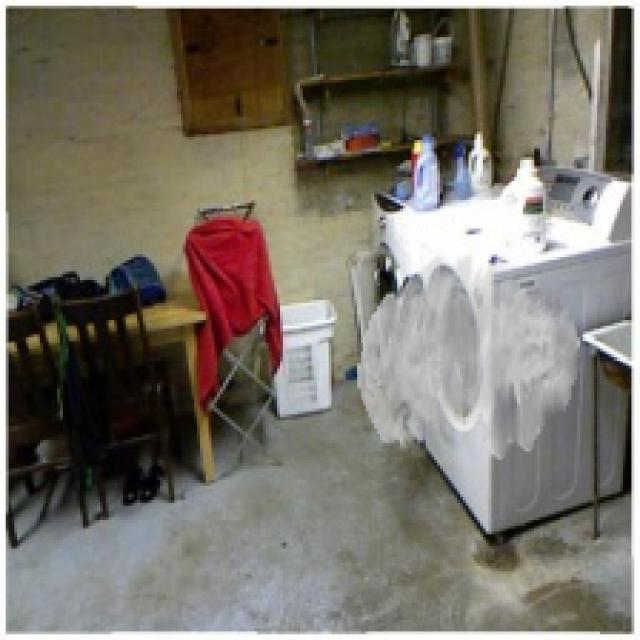Smoke: (357, 255, 580, 460)
